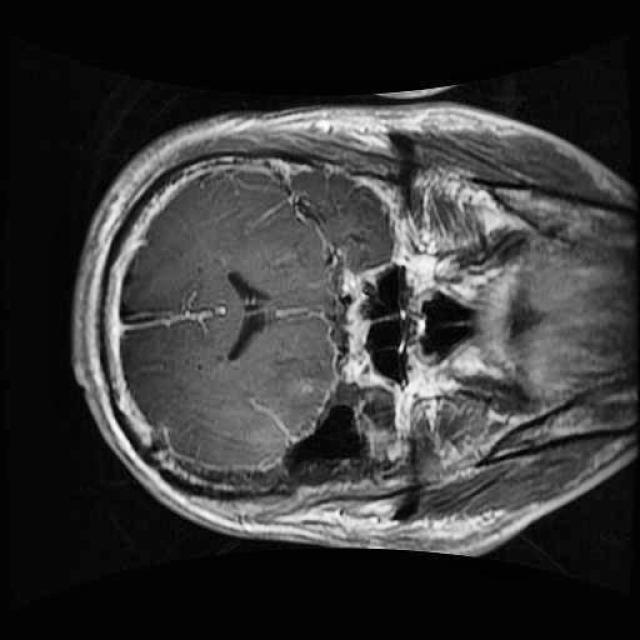Non-Tumor: (253, 361, 410, 516)
